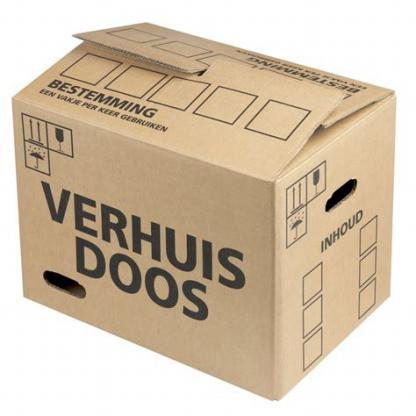box: (10, 19, 392, 404)
